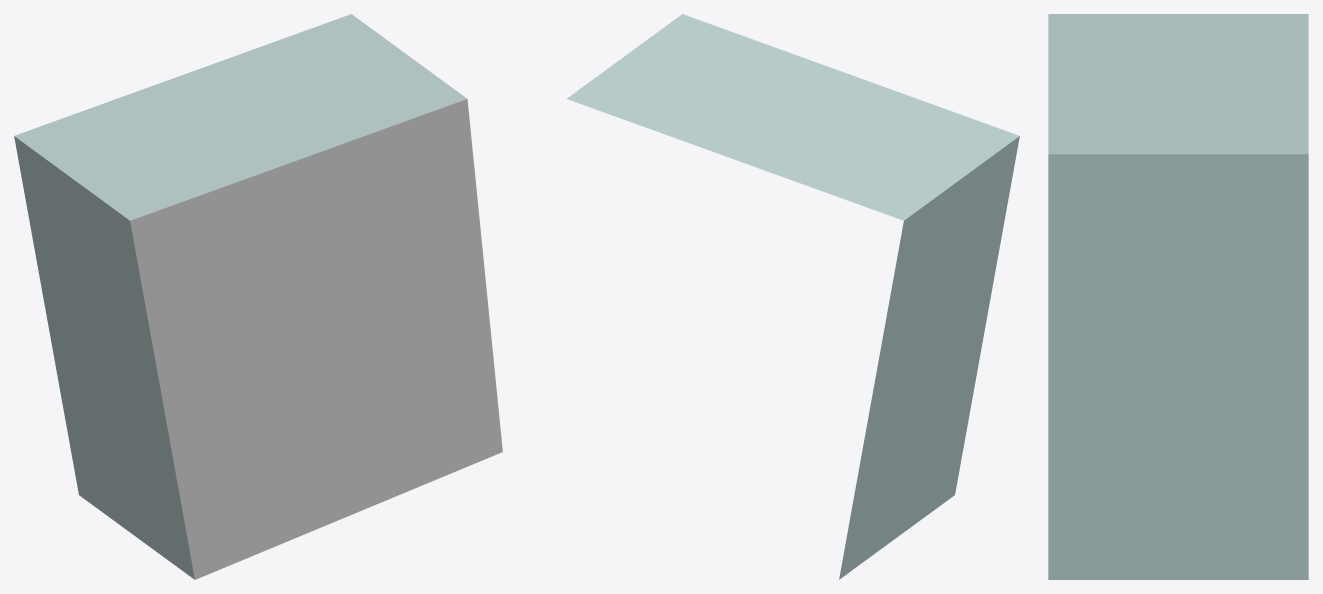
3 renders of one model, left to right at view 1: azimuth 30°, elevation 25°; view 2: azimuth 150°, elevation 25°; view 3: azimuth 270°, elevation 25°, orthographic. The views are drawn at different scales.
Visible parts, largest first — view 1: 0_2_2_3_1_2_2_1_3; view 2: 0_2_2_3_1_2_2_1_3; view 3: 0_2_2_3_1_2_2_1_3.
Boxes of the visible parts, box(x1,y1,x2,y2) form: 0_2_2_3_1_2_2_1_3: box(14, 14, 502, 579); 0_2_2_3_1_2_2_1_3: box(567, 14, 1019, 579); 0_2_2_3_1_2_2_1_3: box(1048, 14, 1308, 579).
Bounding box in the file's own units: 5.57 × 5.91 × 3.
